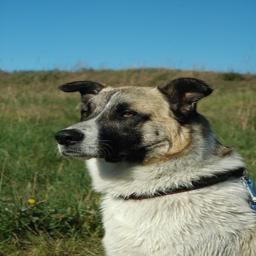dog: (66, 128, 256, 256)
